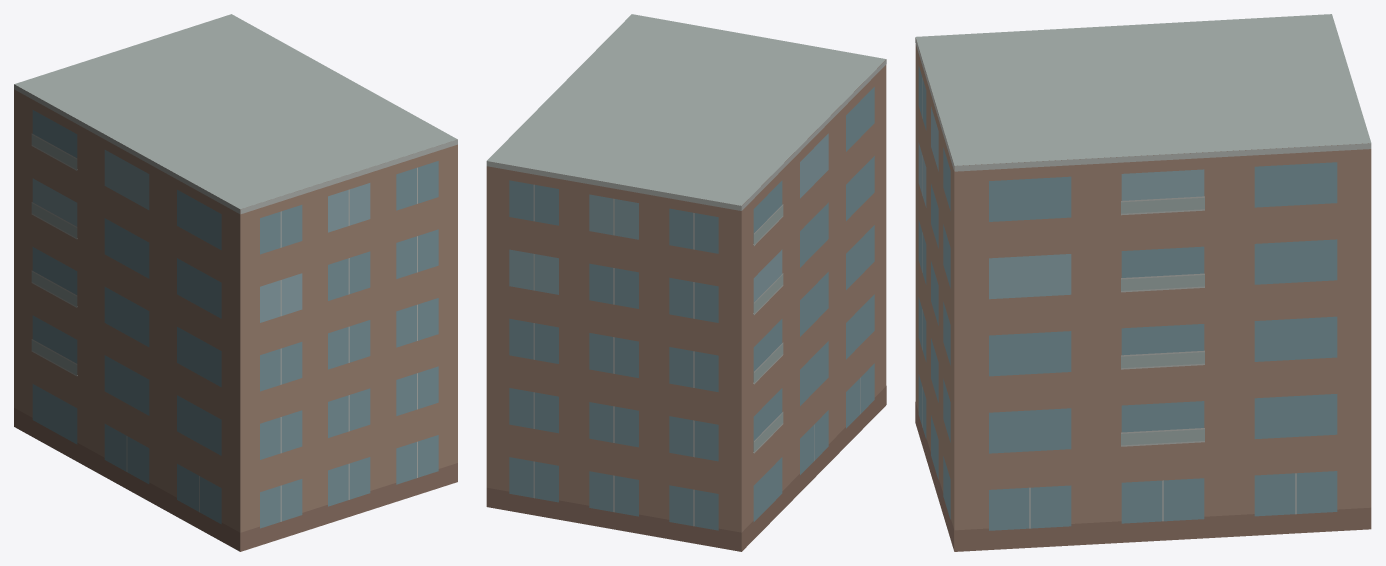
The model's file is survey-upis-32950039.glb.
3 views of the same model, side by side, from view 1: azimuth 30°, elevation 25°; view 2: azimuth 150°, elevation 25°; view 3: azimuth 270°, elevation 25° (orthographic). The views are drawn at different scales.
Parts seen in each view (by area): view 1: survey-upis-32950039.tmp; view 2: survey-upis-32950039.tmp; view 3: survey-upis-32950039.tmp.
Boxes of the visible parts, x1=… form: survey-upis-32950039.tmp: x1=14, y1=14, x2=457, y2=551; survey-upis-32950039.tmp: x1=486, y1=14, x2=886, y2=551; survey-upis-32950039.tmp: x1=915, y1=14, x2=1371, y2=551.
Bounding box in the file's own units: 13.77 × 16.3 × 17.46.
